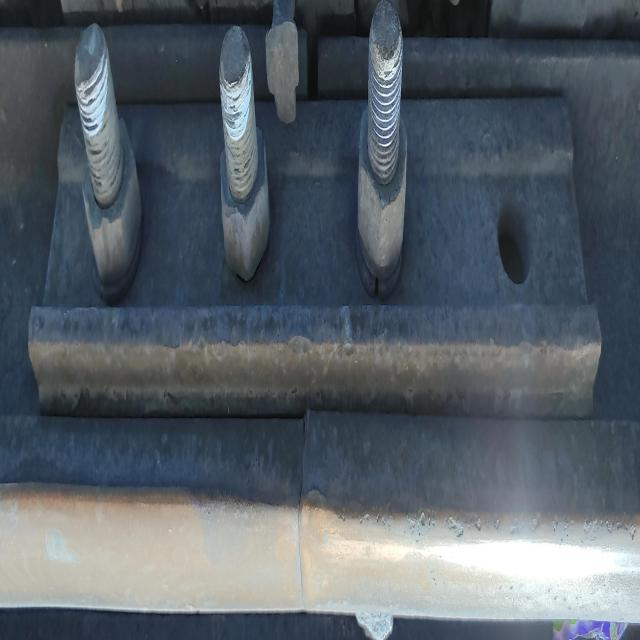Defective Joint: (1, 8, 636, 640)
